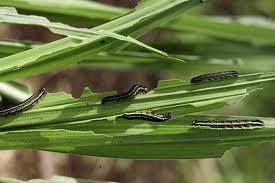fallarmy_worm: (191, 114, 267, 135), (1, 87, 52, 114), (99, 82, 152, 104), (119, 110, 176, 125), (187, 70, 243, 85)
